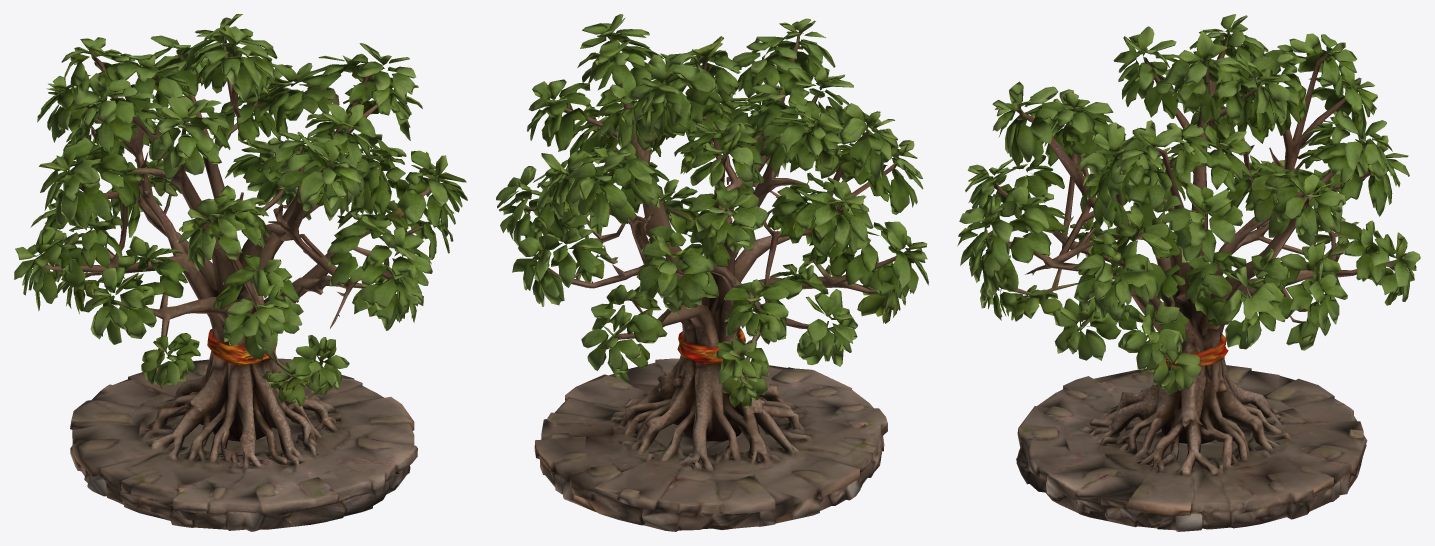
Rendered from peepal.glb.
3 views of the same model, side by side, from view 1: azimuth 30°, elevation 25°; view 2: azimuth 150°, elevation 25°; view 3: azimuth 270°, elevation 25° (orthographic).
Parts seen in each view (by area): view 1: tripo_node_7ecb94f6-45de-4725-a891-7aaafe77963f; view 2: tripo_node_7ecb94f6-45de-4725-a891-7aaafe77963f; view 3: tripo_node_7ecb94f6-45de-4725-a891-7aaafe77963f.
Boxes of the visible parts, x1,y1,x2,y2 form: tripo_node_7ecb94f6-45de-4725-a891-7aaafe77963f: (14,14,467,531); tripo_node_7ecb94f6-45de-4725-a891-7aaafe77963f: (496,14,928,531); tripo_node_7ecb94f6-45de-4725-a891-7aaafe77963f: (957,14,1420,531).
Bounding box in the file's own units: 0.918 × 0.9998 × 0.9903.
1 material, 1 textured.
